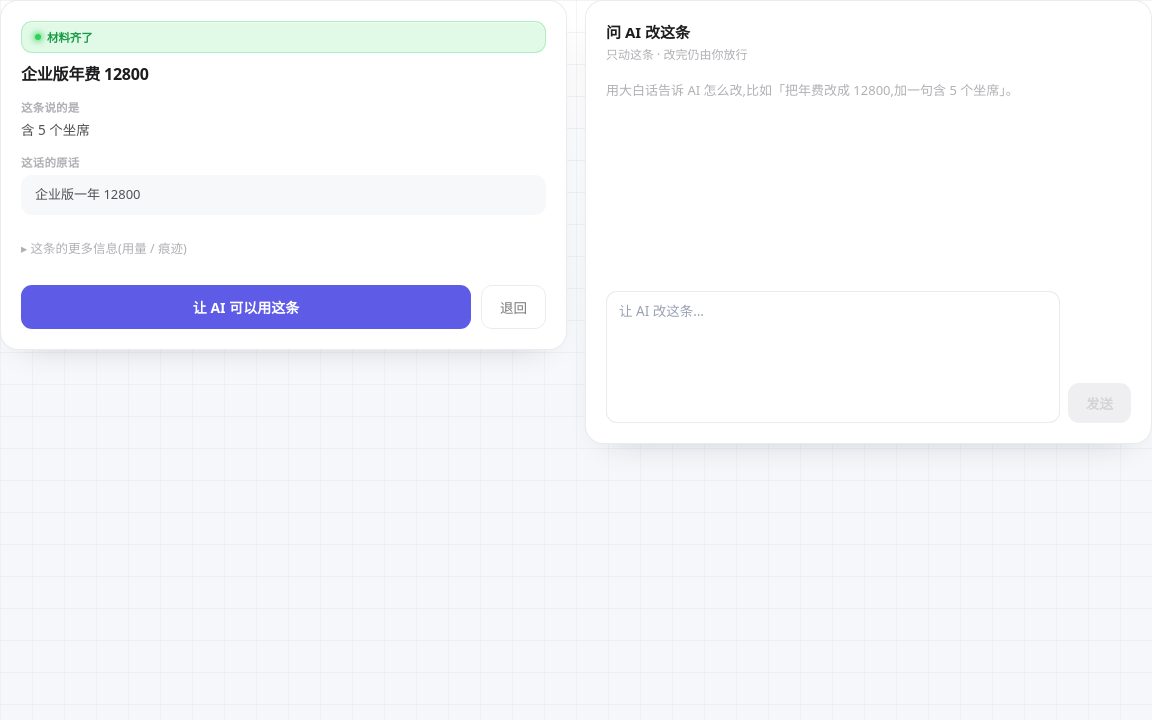
Scenario: ReviewChat › patch 键为 snake_case / 未知键 → label 兜底(已知映射中文,未知显原键)
The width and height of the screenshot is (1152, 720).
Type "改类型" into the text box with placeholder "让 AI 改这条…" at (833, 357), box top-left (606, 291), bottom-right (1060, 423)
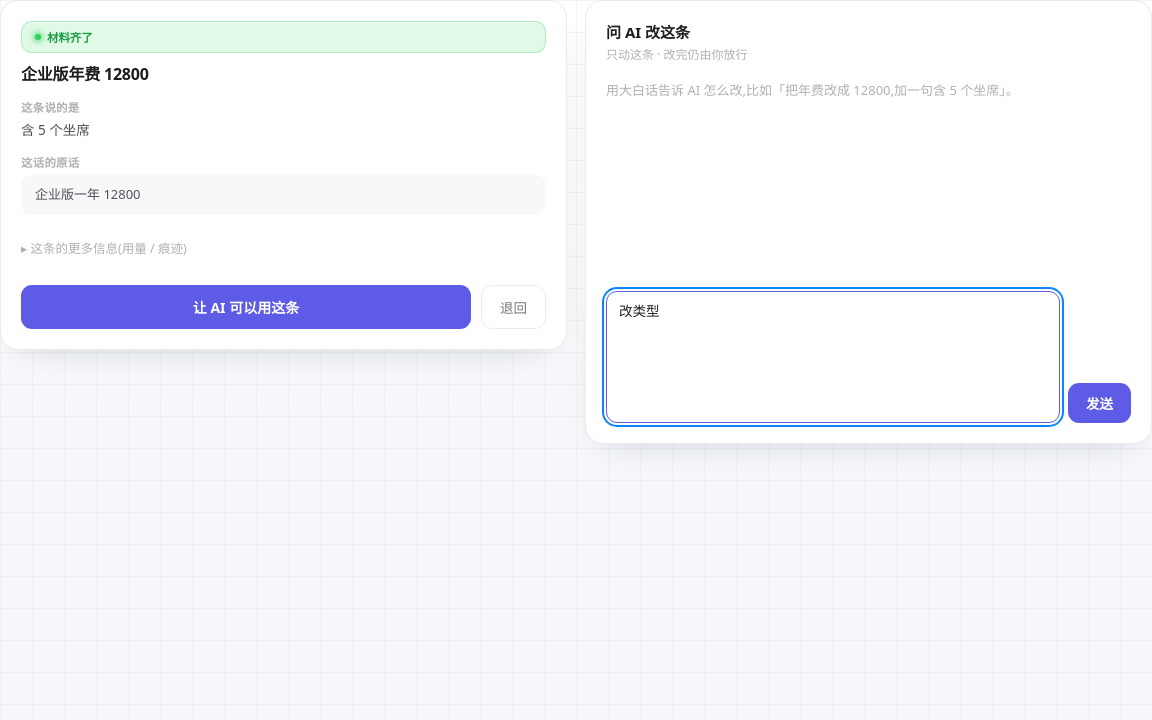
Click the button "发送" at (1100, 403), box top-left (1068, 383), bottom-right (1131, 423)
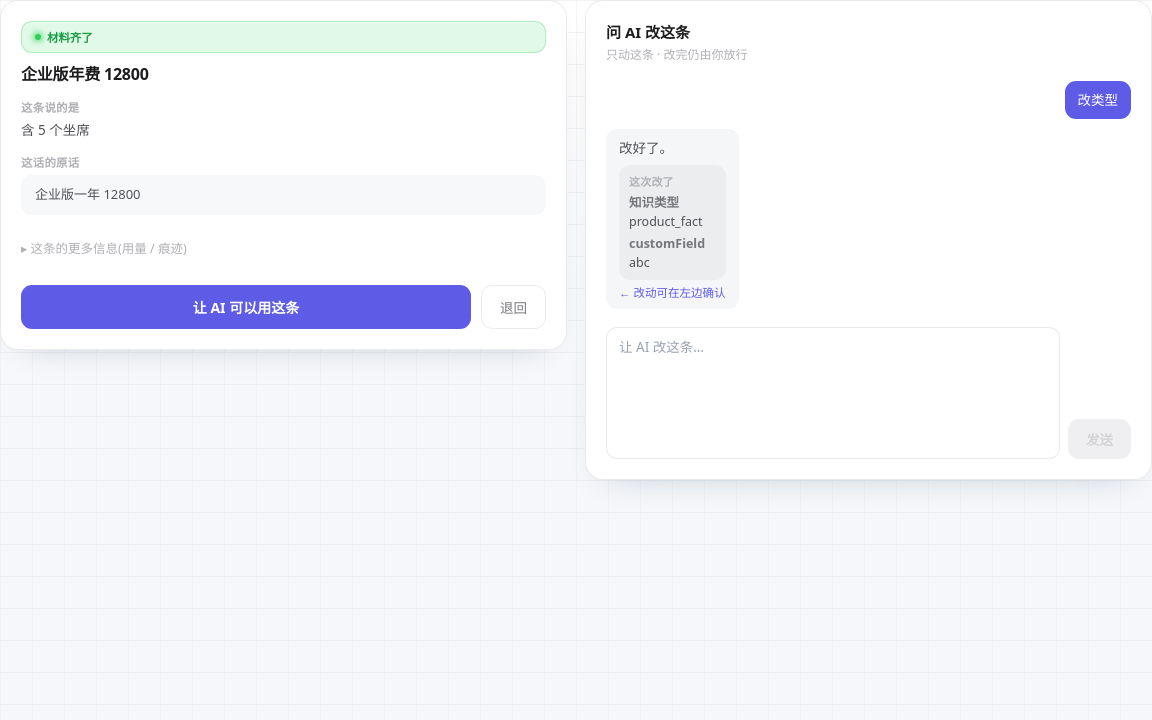
Check: the text "知识类型" is shown, box top-left (629, 194), bottom-right (679, 210)
Check: the text "customField" is shown, box top-left (629, 235), bottom-right (716, 253)
